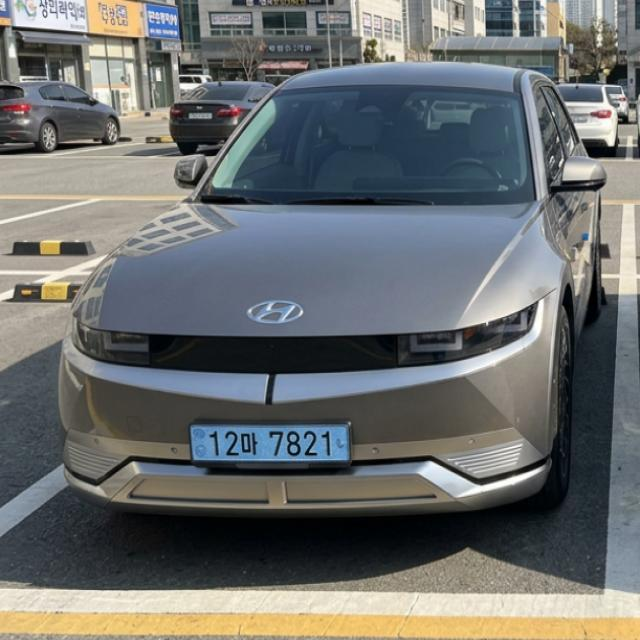car: (176, 410, 376, 484)
carev: (332, 421, 356, 474), (186, 422, 208, 467)
